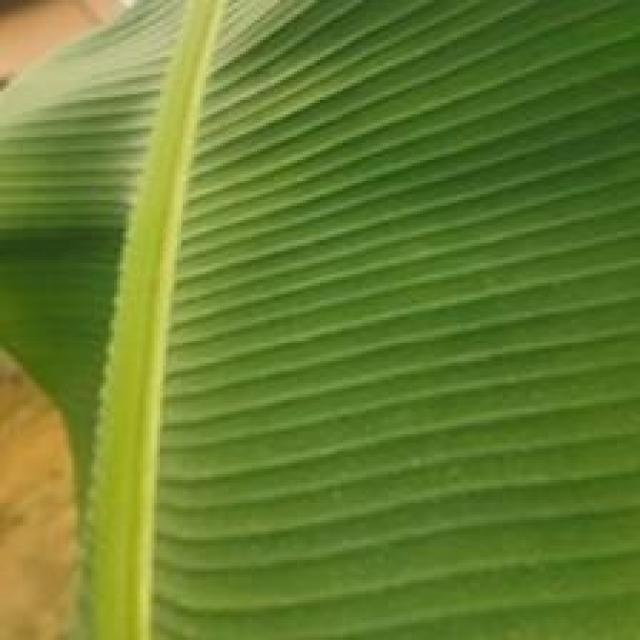Black_leaf_spot: (0, 0, 640, 631)
